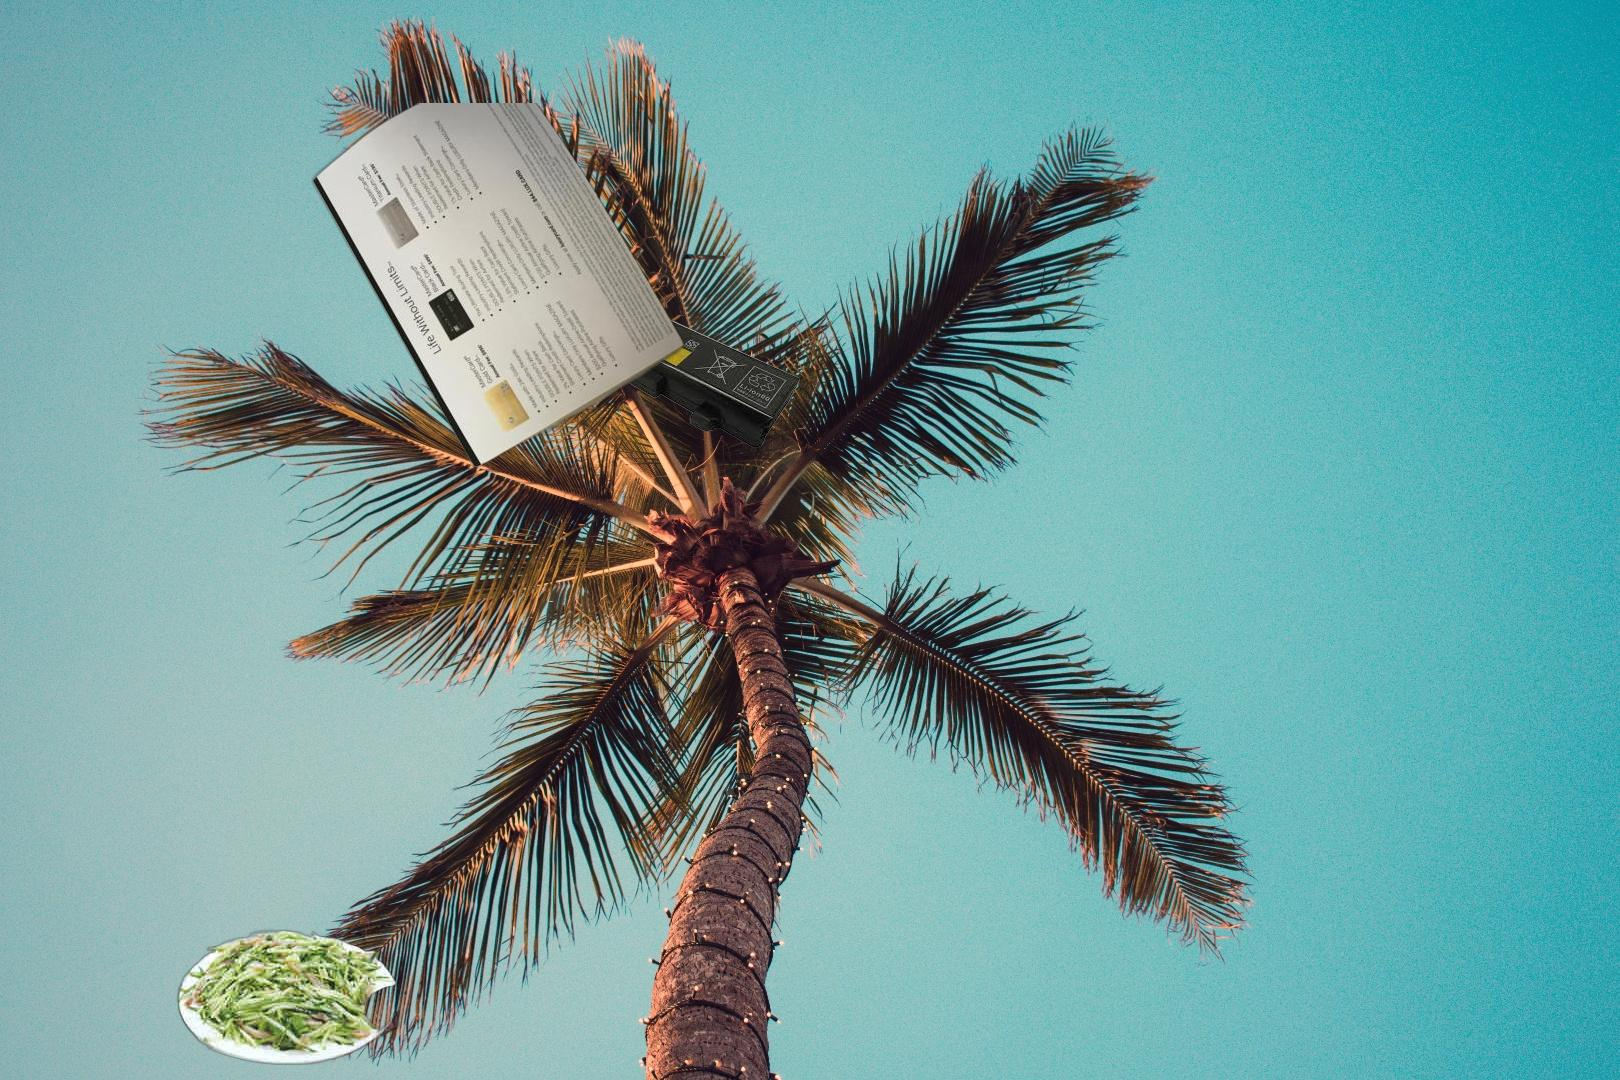battery: (518, 270, 802, 448)
biological: (175, 922, 416, 1067)
paper: (309, 102, 689, 469)
